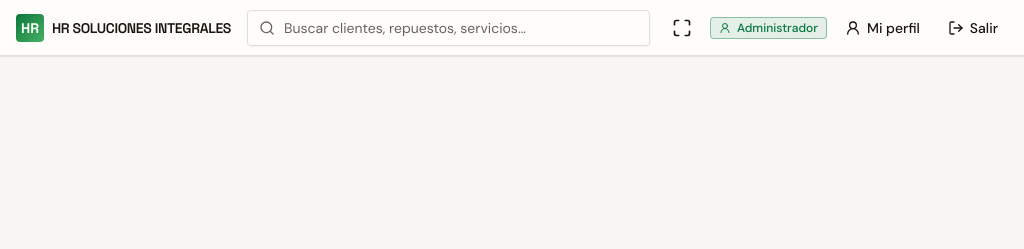
Test: AppHeader › shows a clear empty state when the global search matches nothing
Type "zzz" into the search field with test id "global_search.search_input" at (448, 28), box [247,10,650,46]
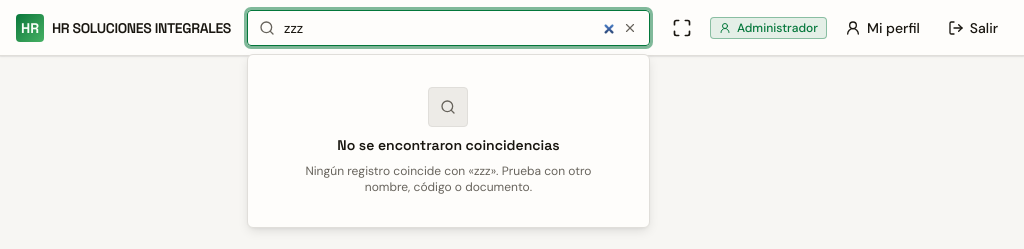
Now the element with test id "global_search.empty_state" is shown, box [305,86,591,194]
Now the text "No se encontraron coincidencias" is shown, box [337,134,560,154]
